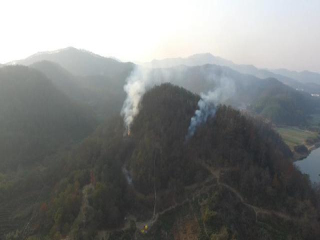smoke: (118, 55, 163, 136), (186, 76, 231, 142)
